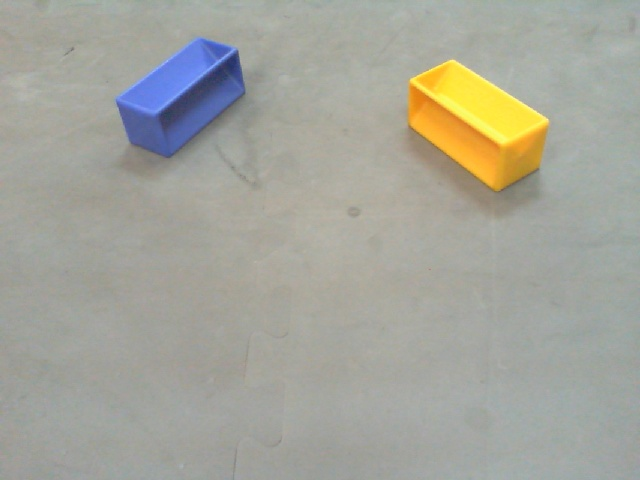BlueSample: (112, 35, 251, 162)
YellowSample: (403, 57, 553, 197)
